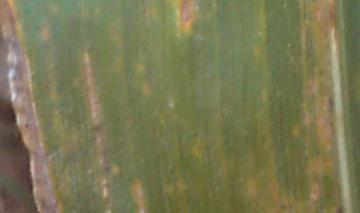tarspot: (1, 89, 45, 213), (334, 205, 344, 213), (192, 132, 199, 139), (279, 204, 284, 208)
